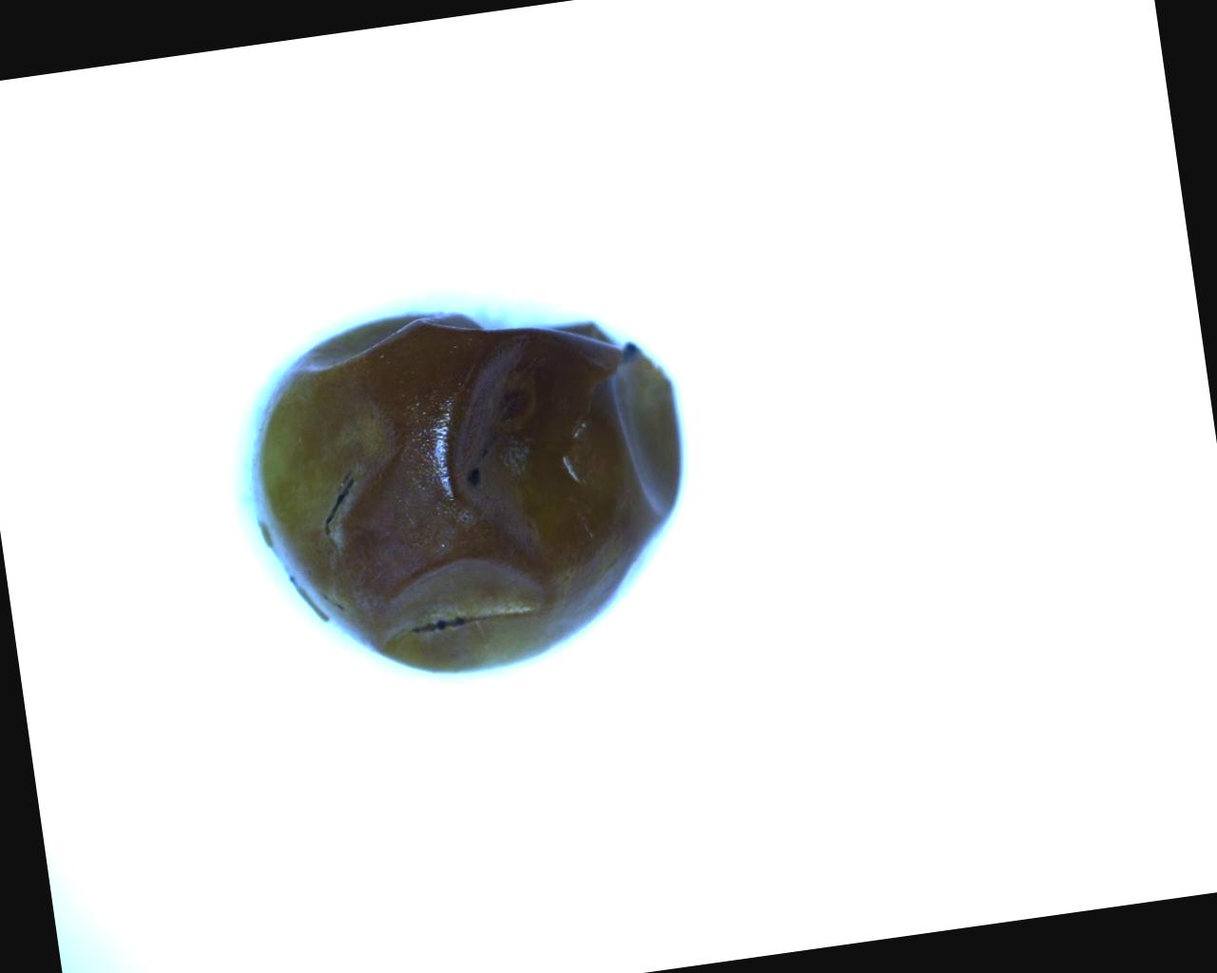Grape Rotten: (227, 275, 711, 700)
